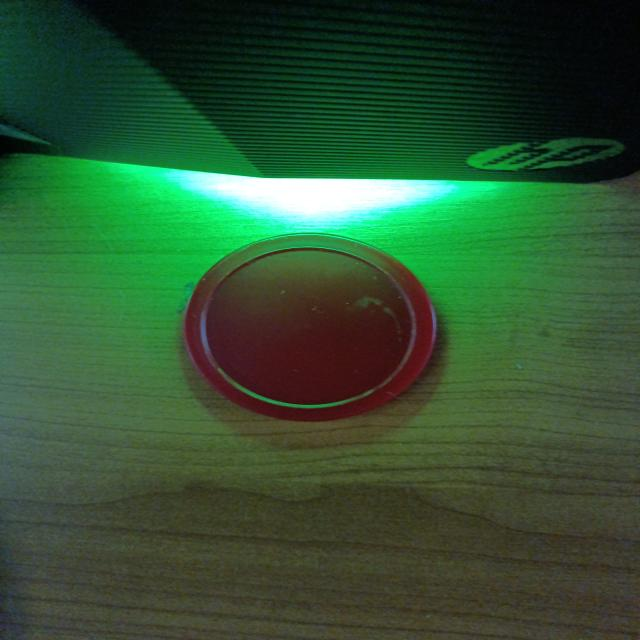chip: (176, 229, 442, 425)
